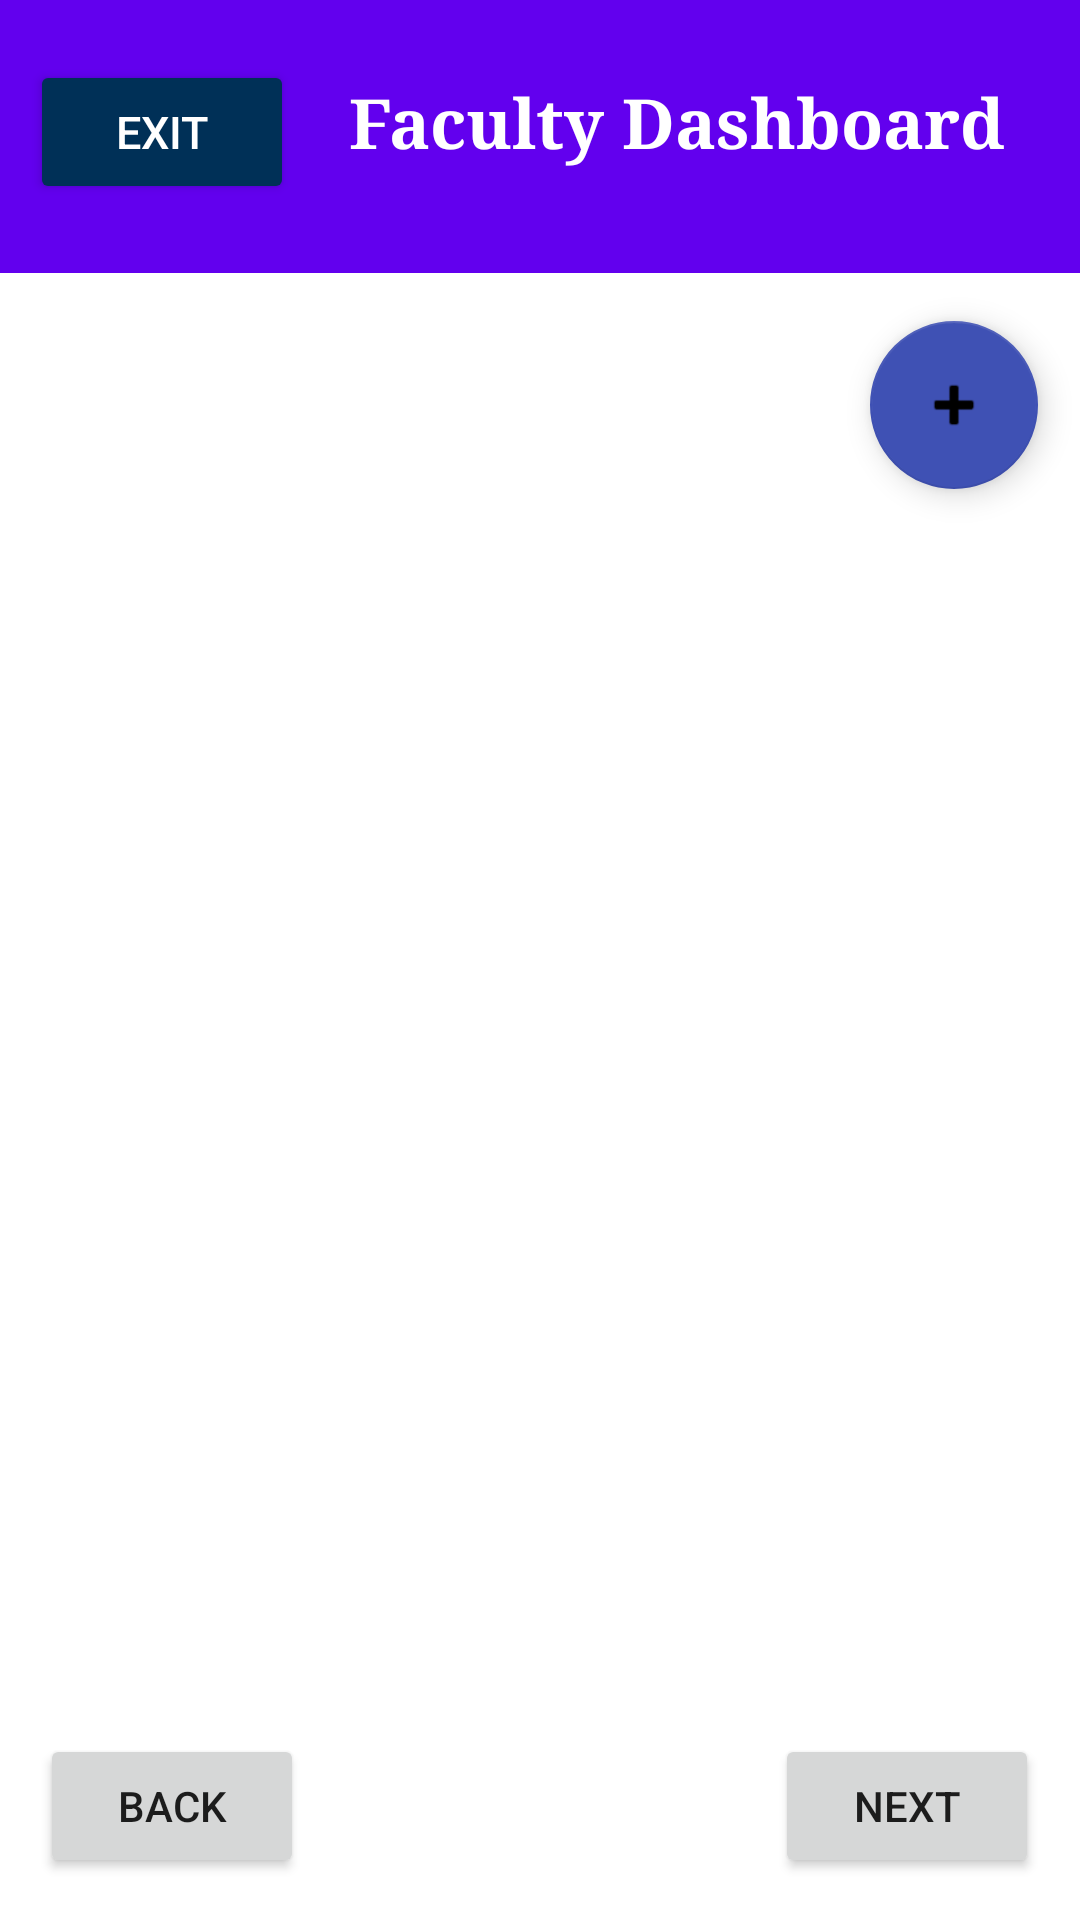

Icons on this 1080x1920 Android screen, each with its box as (x1, y1, x2, y2):
add: (870, 321, 1038, 489)
